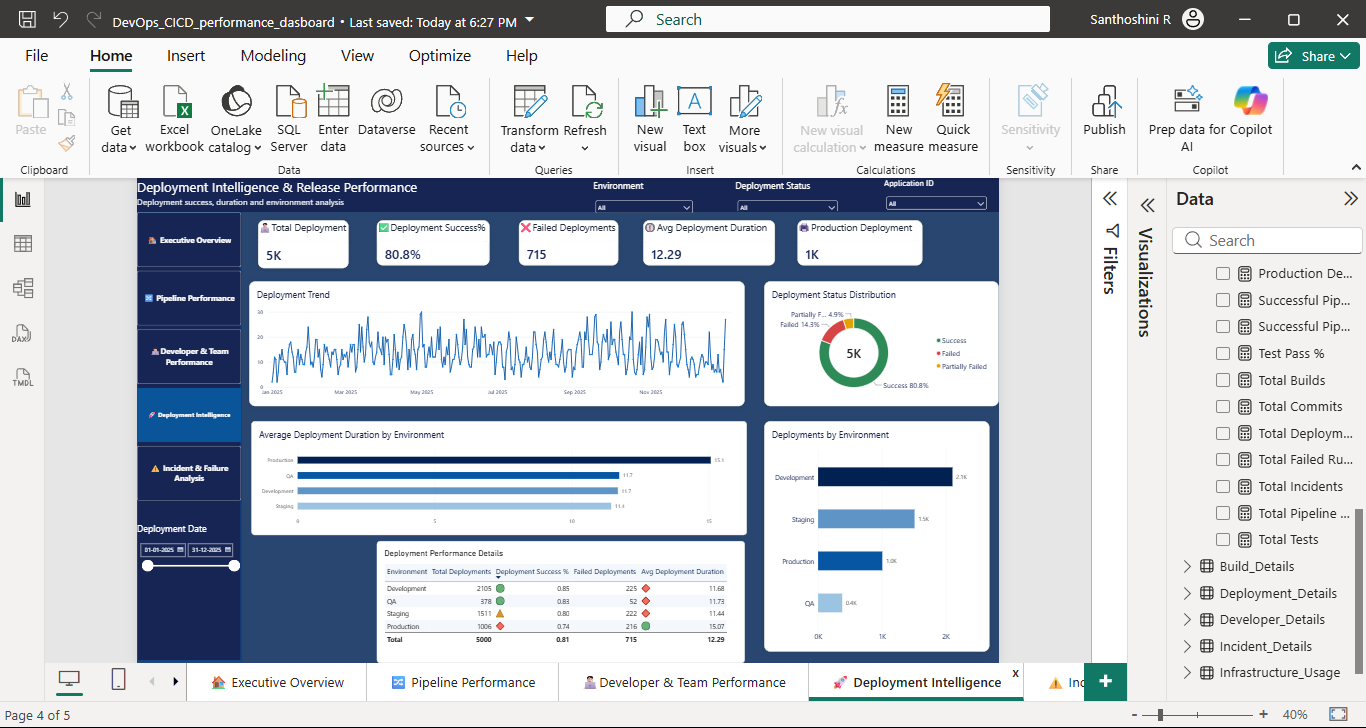

The page's visual inventory and layout, read from the dashboard file:
{"tool":"powerbi","page":{"name":"🚀 Deployment Intelligence","canvas":[1920,1080],"ordinal":3},"visuals":[{"type":"shape","title":"Deployment Intelligence & Release Performance","box":[0,0,1920.3,75.4],"z":0},{"type":"shape","box":[0,76.4,232,999],"z":1000},{"type":"slicer","title":"Deployment Date","fields":{"Values":["Deployment_Details.Deployment_Date"]},"box":[0,767.5,232.4,131.5],"z":2000},{"type":"slicer","title":"Environment","fields":{"Values":["Deployment_Details.Environment"]},"box":[1015.1,3.1,226.6,74.5],"z":3000},{"type":"slicer","title":"Application ID","fields":{"Values":["Deployment_Details.Application_ID"]},"box":[1663.4,0,233.8,77.9],"z":4000},{"type":"slicer","title":"Deployment Status","fields":{"Values":["Deployment_Details.Deployment_Status"]},"box":[1333.1,3.1,233.1,71.2],"z":5000},{"type":"cardVisual","title":"🧑🏻💻Total Deployment","fields":{"Data":["Application_Details.Total Deployments"]},"box":[269.1,94.8,202,107],"z":6000},{"type":"pageNavigator","box":[0,76.4,232.4,645.2],"z":7000},{"type":"cardVisual","title":"✅Deployment Success%","fields":{"Data":["Application_Details.Deployment Success %"]},"box":[535.1,94.8,251.1,101.1],"z":8000},{"type":"cardVisual","title":"❌Failed Deployments","fields":{"Data":["Application_Details.Failed Deployments"]},"box":[850,94.8,221.2,100.5],"z":9000},{"type":"cardVisual","title":"🕧Avg Deployment Duration","fields":{"Data":["Application_Details.Avg Deployment Duration"]},"box":[1128.3,94.8,293.5,100.9],"z":10000},{"type":"cardVisual","title":"🖨️Production Deployment","fields":{"Data":["Application_Details.Production Deployments"]},"box":[1470.7,94.8,278.2,100.9],"z":11000},{"type":"lineChart","title":"Deployment Trend","fields":{"Category":["Deployment_Details.Deployment_Date.Variation.Date Hierarchy.Year","Deployment_Details.Deployment_Date.Variation.Date Hierarchy.Month","Deployment_Details.Deployment_Date.Variation.Date Hierarchy.Day"],"Y":["Application_Details.Total Deployments"]},"box":[250.7,229.3,1103.8,278.2],"z":12000},{"type":"donutChart","title":"Deployment Status Distribution","fields":{"Category":["Deployment_Details.Deployment_Status"],"Y":["CountNonNull(Deployment_Details.Deployment_ID)"]},"box":[1397.3,229.3,522.9,278.2],"z":13000},{"type":"clusteredBarChart","title":"Deployments by Environment","fields":{"Category":["Deployment_Details.Environment"],"Y":["Application_Details.Total Deployments"]},"box":[1397.3,541.2,501.5,513.7],"z":14000},{"type":"clusteredBarChart","title":"Average Deployment Duration by Environment","fields":{"Category":["Deployment_Details.Environment"],"Y":["Application_Details.Avg Deployment Duration"]},"box":[253.8,541.2,1103.8,253.8],"z":15000},{"type":"tableEx","title":"Deployment Performance Details","fields":{"Values":["Deployment_Details.Environment","Application_Details.Total Deployments","Application_Details.Deployment Success %","Application_Details.Failed Deployments","Application_Details.Avg Deployment Duration"]},"box":[535.1,807.2,819.4,272.1],"z":16000}]}

Visuals, with their boxes on the page's 1920x1080 design canvas (x1, y1, x2, y2). These are canvas units, not pixel positions in the 1366x728 screenshot, which may show the page scaled, cropped or inside an application window:
"Deployment Intelligence & Release Performance" shape: x1=0 y1=0 x2=1920 y2=75
shape: x1=0 y1=76 x2=232 y2=1075
"Deployment Date" slicer: x1=0 y1=768 x2=232 y2=899
"Environment" slicer: x1=1015 y1=3 x2=1242 y2=78
"Application ID" slicer: x1=1663 y1=0 x2=1897 y2=78
"Deployment Status" slicer: x1=1333 y1=3 x2=1566 y2=74
"🧑🏻💻Total Deployment" cardVisual: x1=269 y1=95 x2=471 y2=202
pageNavigator: x1=0 y1=76 x2=232 y2=722
"✅Deployment Success%" cardVisual: x1=535 y1=95 x2=786 y2=196
"❌Failed Deployments" cardVisual: x1=850 y1=95 x2=1071 y2=195
"🕧Avg Deployment Duration" cardVisual: x1=1128 y1=95 x2=1422 y2=196
"🖨️Production Deployment" cardVisual: x1=1471 y1=95 x2=1749 y2=196
"Deployment Trend" lineChart: x1=251 y1=229 x2=1354 y2=508
"Deployment Status Distribution" donutChart: x1=1397 y1=229 x2=1920 y2=508
"Deployments by Environment" clusteredBarChart: x1=1397 y1=541 x2=1899 y2=1055
"Average Deployment Duration by Environment" clusteredBarChart: x1=254 y1=541 x2=1358 y2=795
"Deployment Performance Details" tableEx: x1=535 y1=807 x2=1354 y2=1079
